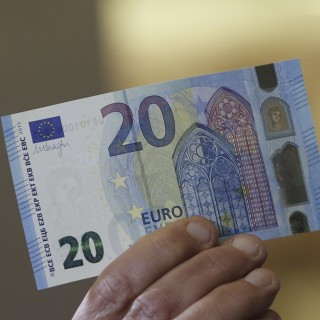billete: (1, 57, 320, 293)
